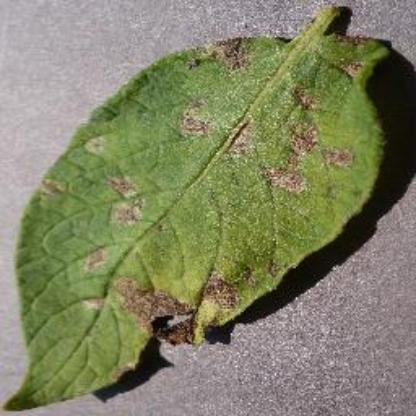Early-Blight: (6, 6, 388, 412)
